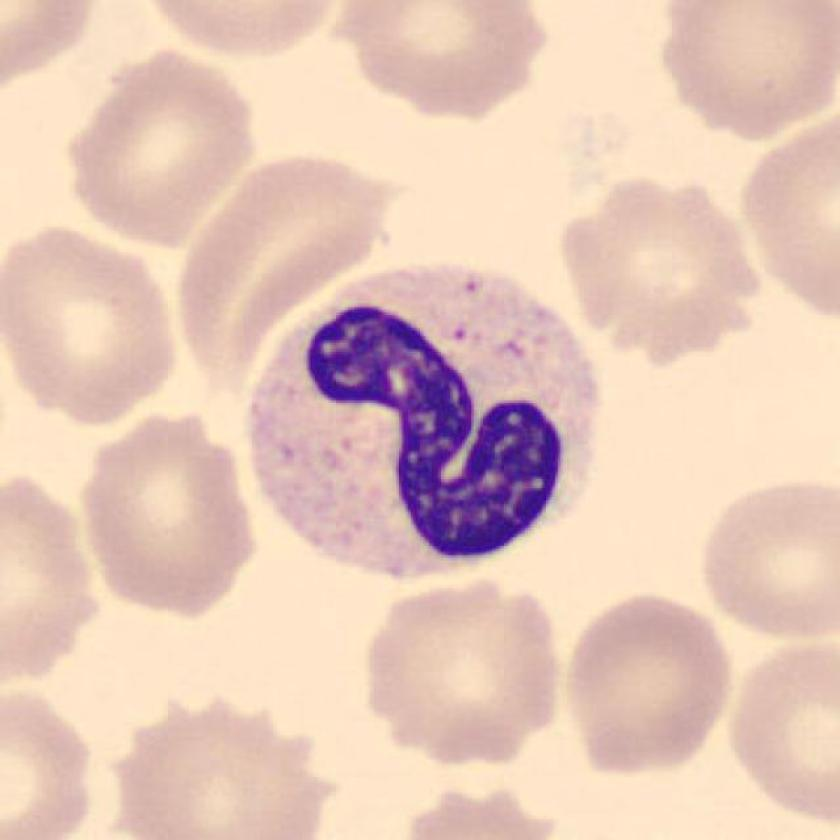neutrophil: (249, 262, 597, 572)
